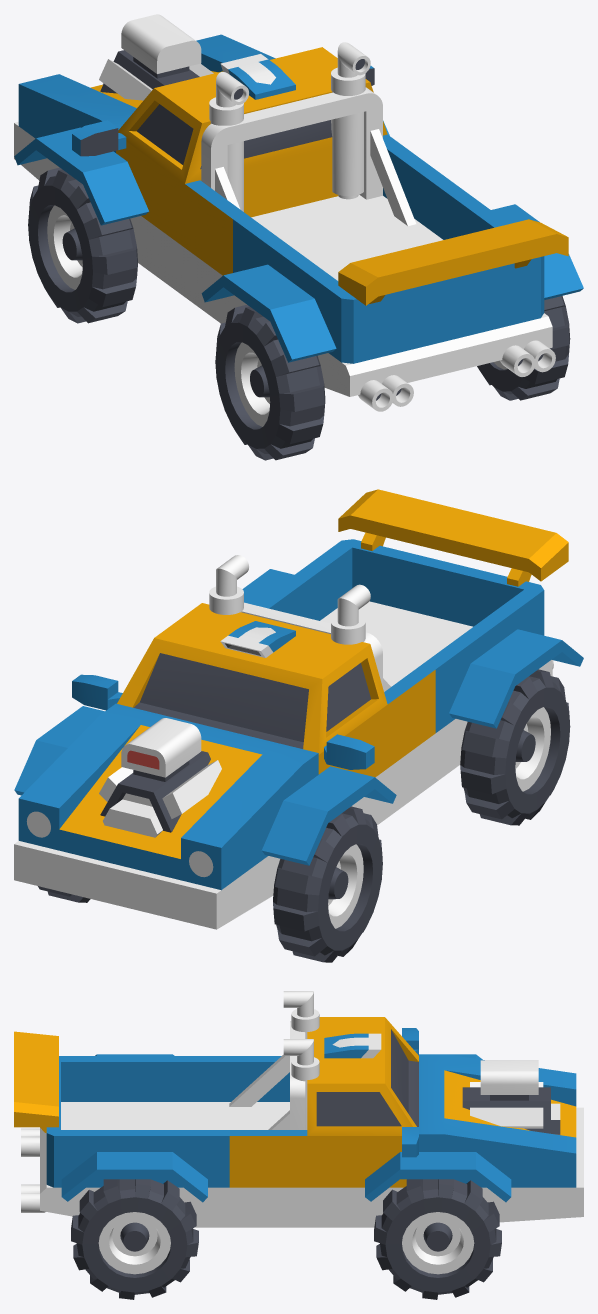
Rendered from Player Small Monster Truck.fbx.
The picture shows the model from 3 angles, top to bottom: view 1: azimuth 30°, elevation 25°; view 2: azimuth 150°, elevation 25°; view 3: azimuth 270°, elevation 25°; orthographic projection. The views are drawn at different scales.
Parts seen in each view (by area): view 1: windshield_truck_14, trunk_bed_12, wheel_dirt_59, wheel_dirt_60, detail_spoilerRound_54, detail_rollbar_20, hood_square_16, detail_engine_19, detail_fenderSquare_58, detail_fenderSquare_61, detail_exhaustVertical_24, wheel_dirt_62 (+8 smaller); view 2: hood_square_16, windshield_truck_14, trunk_bed_12, wheel_dirt_59, wheel_dirt_60, detail_spoilerRound_54, detail_engine_19, detail_fenderSquare_58, detail_fenderSquare_61, detail_fenderSquare_65, engine_intakeArrow_35, detail_exhaustVertical_25 (+5 smaller); view 3: windshield_truck_14, trunk_bed_12, hood_square_16, wheel_dirt_62, wheel_dirt_64, detail_engine_19, detail_spoilerRound_54, detail_fenderSquare_63, detail_fenderSquare_65, detail_rollbar_20, engine_intakeArrow_35, detail_exhaustVertical_24 (+3 smaller).
Part boxes in pixels (<box>): windshield_truck_14: <box>116,47,434,323</box>; trunk_bed_12: <box>233,169,552,396</box>; wheel_dirt_59: <box>215,305,325,460</box>; wheel_dirt_60: <box>28,167,137,323</box>; detail_spoilerRound_54: <box>338,219,568,305</box>; detail_rollbar_20: <box>201,87,416,225</box>; hood_square_16: <box>14,34,275,180</box>; detail_engine_19: <box>99,14,213,100</box>; detail_fenderSquare_58: <box>201,264,336,362</box>; detail_fenderSquare_61: <box>14,127,148,225</box>; detail_exhaustVertical_24: <box>331,42,370,199</box>; wheel_dirt_62: <box>477,296,570,400</box>; hood_square_16: <box>14,703,318,929</box>; windshield_truck_14: <box>117,603,435,825</box>; trunk_bed_12: <box>254,539,552,782</box>; wheel_dirt_59: <box>460,669,570,825</box>; wheel_dirt_60: <box>273,806,382,962</box>; detail_spoilerRound_54: <box>338,489,568,586</box>; detail_engine_19: <box>99,718,221,837</box>; detail_fenderSquare_58: <box>449,629,583,728</box>; detail_fenderSquare_61: <box>261,766,396,865</box>; detail_fenderSquare_65: <box>14,706,104,795</box>; engine_intakeArrow_35: <box>220,621,295,657</box>; detail_exhaustVertical_25: <box>331,584,370,644</box>; windshield_truck_14: <box>229,1017,418,1227</box>; trunk_bed_12: <box>40,1056,229,1227</box>; hood_square_16: <box>419,1054,583,1222</box>; wheel_dirt_62: <box>71,1179,198,1299</box>; wheel_dirt_64: <box>374,1179,501,1299</box>; detail_engine_19: <box>462,1060,560,1134</box>; detail_spoilerRound_54: <box>14,1031,58,1132</box>; detail_fenderSquare_63: <box>61,1152,207,1202</box>; detail_fenderSquare_65: <box>365,1152,511,1202</box>; detail_rollbar_20: <box>229,1021,305,1129</box>; engine_intakeArrow_35: <box>324,1033,381,1058</box>; detail_exhaustVertical_24: <box>283,1039,319,1129</box>.
Bounding box in the file's own units: 14.5 × 13.38 × 30.08.
